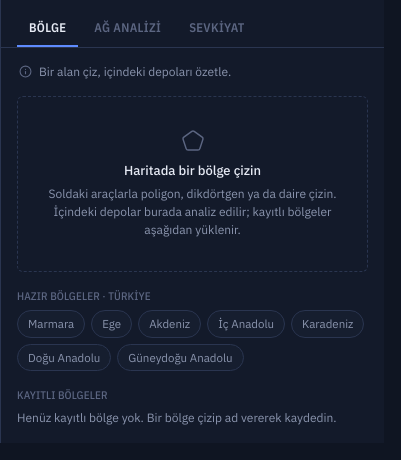
Test case: AnalysisPanel sekmeleri › Sevkiyat sekmesi LogisticsPanel'i açar
This screenshot has width=401, height=460.
Click the tab "Sevkiyat" at (217, 28), box [177,10,257,47]
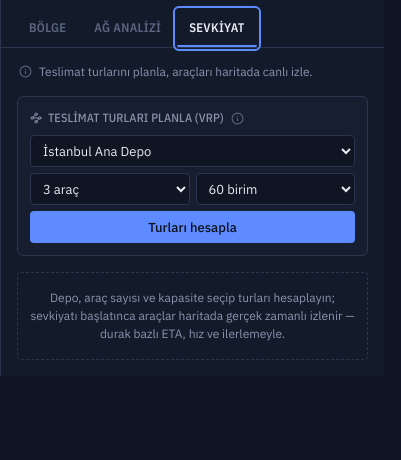
Expected: the heading "Teslimat turları planla (VRP)" is shown, [30,110,246,126]
